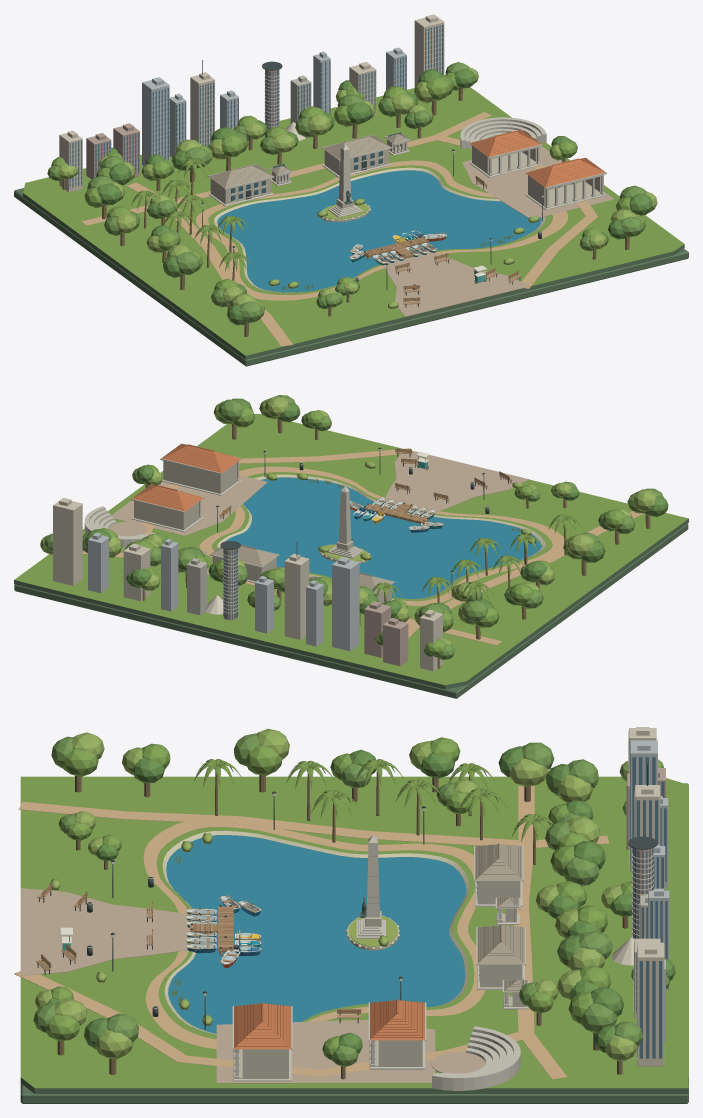
The model's file is Uhuru park.glb.
3 renders of one model, top to bottom at view 1: azimuth 30°, elevation 25°; view 2: azimuth 150°, elevation 25°; view 3: azimuth 270°, elevation 25°, orthographic. The views are drawn at different scales.
Visible parts, largest first — view 1: Ground surrounding lake opening, Continuous lake water, Solid compact diorama foundation, Broad foreground boat landing plaza, Continuous lakeside walking path, Earth beneath lawn perimeter, Right pavilion forecourt, Glass twin tower | mass, Eastern highrise | mass, Left park avenue, Right diagonal park avenue, Antenna tower | mass (+21 smaller); view 2: Ground surrounding lake opening, Continuous lake water, Solid compact diorama foundation, Broad foreground boat landing plaza, Earth beneath lawn perimeter, Continuous lakeside walking path, Glass twin tower | mass, Eastern highrise | mass, Right pavilion forecourt, Antenna tower | mass, Lakeside_south_veranda | solid hipped roof, Narrow east tower | mass (+19 smaller); view 3: Ground surrounding lake opening, Continuous lake water, Broad foreground boat landing plaza, Solid compact diorama foundation, Continuous lakeside walking path, Right pavilion forecourt, Left park avenue, Earth beneath lawn perimeter, Rear garden cross path, Right diagonal park avenue, Lakeside_south_veranda | solid hipped roof, Sloped limestone shoreline (+35 smaller).
Boxes of the visible parts, box(x1,y1,x2,y2) form: Ground surrounding lake opening: box(23, 87, 684, 355); Continuous lake water: box(217, 170, 541, 292); Solid compact diorama foundation: box(14, 170, 688, 366); Broad foreground boat landing plaza: box(384, 251, 529, 316); Continuous lakeside walking path: box(195, 160, 567, 300); Earth beneath lawn perimeter: box(23, 193, 684, 359); Right pavilion forecourt: box(462, 146, 614, 217); Glass twin tower | mass: box(142, 80, 169, 165); Eastern highrise | mass: box(414, 17, 444, 102); Left park avenue: box(127, 182, 293, 346); Right diagonal park avenue: box(435, 135, 597, 288); Antenna tower | mass: box(190, 75, 214, 146); Ground surrounding lake opening: box(14, 414, 688, 685); Continuous lake water: box(225, 477, 541, 598); Solid compact diorama foundation: box(14, 477, 688, 698); Broad foreground boat landing plaza: box(384, 450, 529, 515); Earth beneath lawn perimeter: box(14, 519, 688, 689); Continuous lakeside walking path: box(199, 466, 564, 605); Glass twin tower | mass: box(332, 560, 359, 651); Eastern highrise | mass: box(53, 501, 82, 585); Right pavilion forecourt: box(111, 475, 267, 535); Antenna tower | mass: box(284, 556, 309, 639); Lakeside_south_veranda | solid hipped roof: box(161, 444, 241, 473); Narrow east tower | mass: box(161, 541, 178, 611); Ground surrounding lake opening: box(20, 776, 688, 1088); Continuous lake water: box(166, 835, 466, 1033); Broad foreground boat landing plaza: box(20, 888, 197, 975); Solid compact diorama foundation: box(20, 783, 688, 1103); Continuous lakeside walking path: box(143, 821, 484, 1048); Right pavilion forecourt: box(216, 1020, 435, 1083); Left park avenue: box(18, 801, 609, 848); Earth beneath lawn perimeter: box(20, 1077, 688, 1093); Rear garden cross path: box(514, 786, 567, 1079); Right diagonal park avenue: box(14, 971, 526, 1076); Lakeside_south_veranda | solid hipped roof: box(234, 1003, 291, 1049); Sloped limestone shoreline: box(162, 830, 469, 1034).
Size of the model in its own units: 1.99 by 0.4466 by 1.81.
